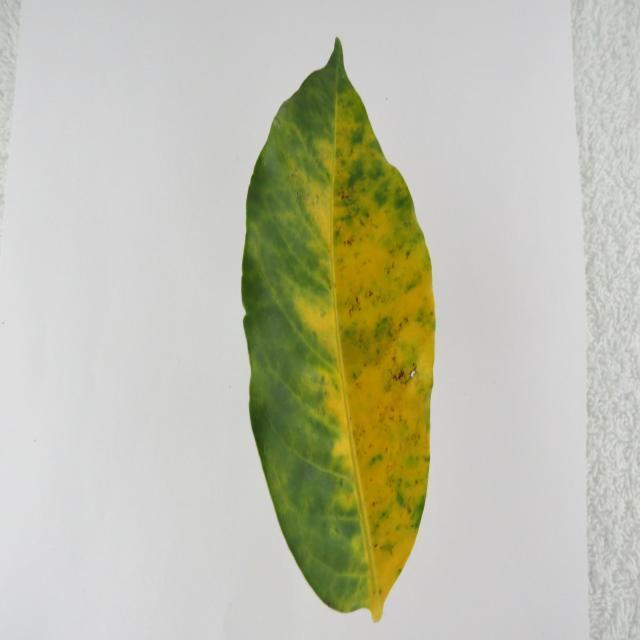DeficienciaNutricional-Nitrogeno: (241, 42, 432, 616)
